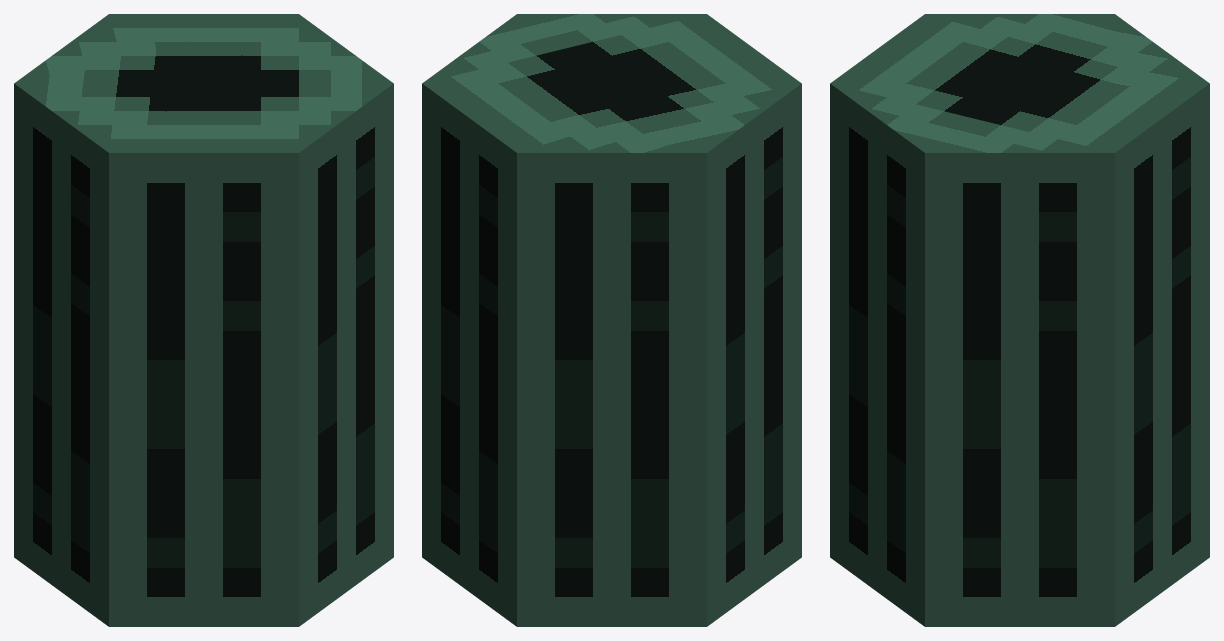
The model's file is GarbageCan.fbx.
3 renders of one model, left to right at view 1: azimuth 30°, elevation 25°; view 2: azimuth 150°, elevation 25°; view 3: azimuth 270°, elevation 25°, orthographic.
Parts seen in each view (by area): view 1: Cylinder; view 2: Cylinder; view 3: Cylinder.
Boxes of the visible parts, x1=… form: Cylinder: x1=14, y1=14, x2=393, y2=626; Cylinder: x1=422, y1=14, x2=801, y2=626; Cylinder: x1=830, y1=14, x2=1209, y2=626.
Bounding box in the file's own units: 52.9 × 84.13 × 61.08.
1 material, 1 textured.
